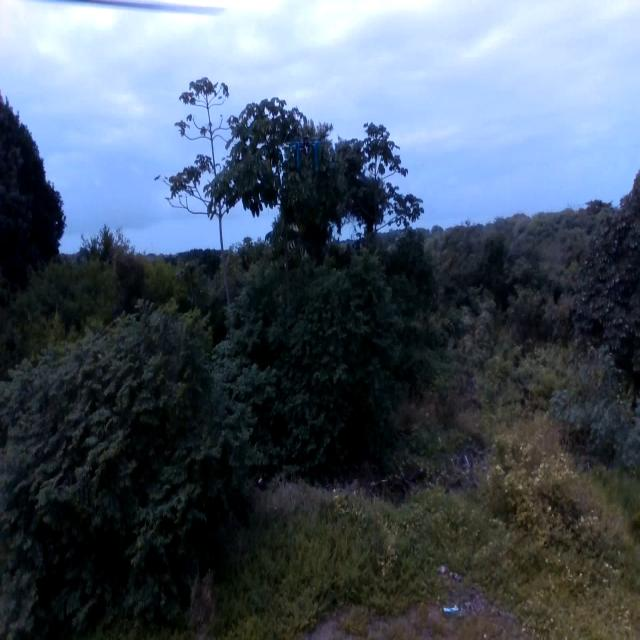-uav-: (287, 132, 325, 181)
